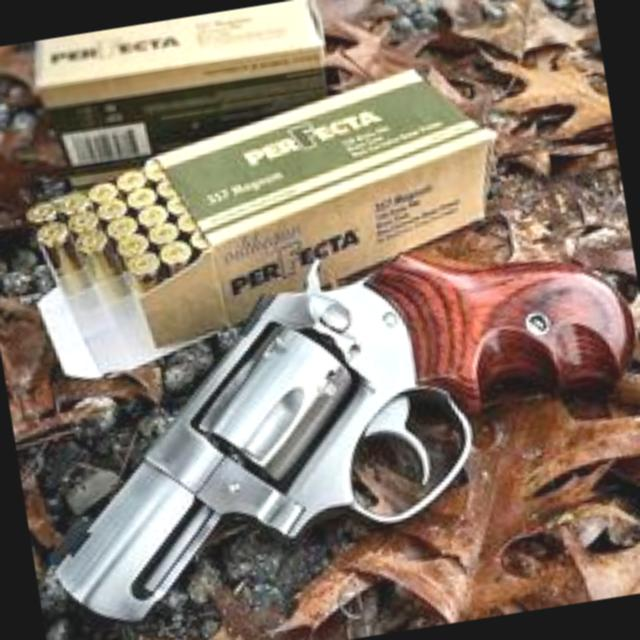revolver: (1, 219, 640, 640)
